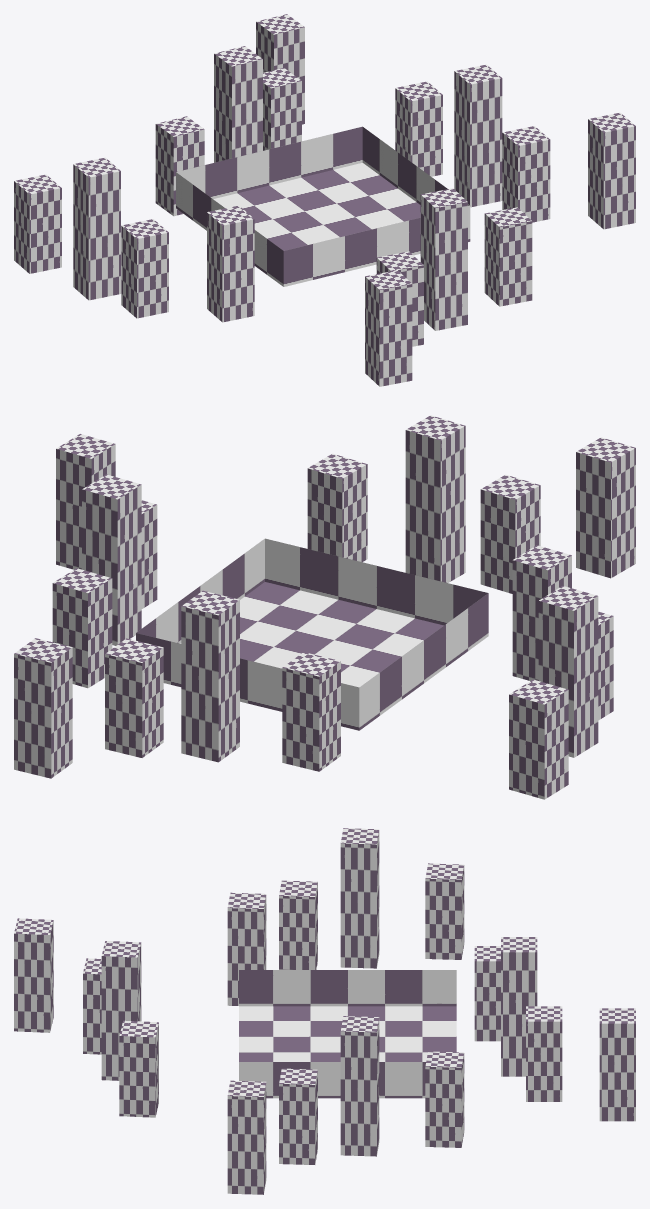
Rendered from floor.glb.
3 renders of one model, top to bottom at view 1: azimuth 30°, elevation 25°; view 2: azimuth 150°, elevation 25°; view 3: azimuth 270°, elevation 25°, orthographic. The views are drawn at different scales.
Parts seen in each view (by area): view 1: Cube; view 2: Cube; view 3: Cube.
Boxes of the visible parts, x1,y1,x2,y2 form: Cube: [14, 14, 635, 386]; Cube: [14, 415, 635, 799]; Cube: [14, 828, 635, 1194].
Size of the model in its own units: 32.81 by 7.56 by 34.34.
Materials: 1 (1 with a texture image).
